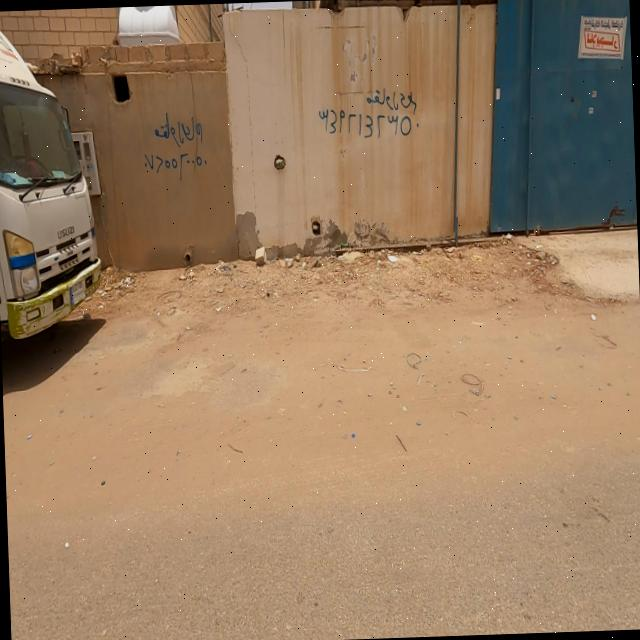Graffiti: (319, 92, 421, 141), (142, 112, 211, 183)
